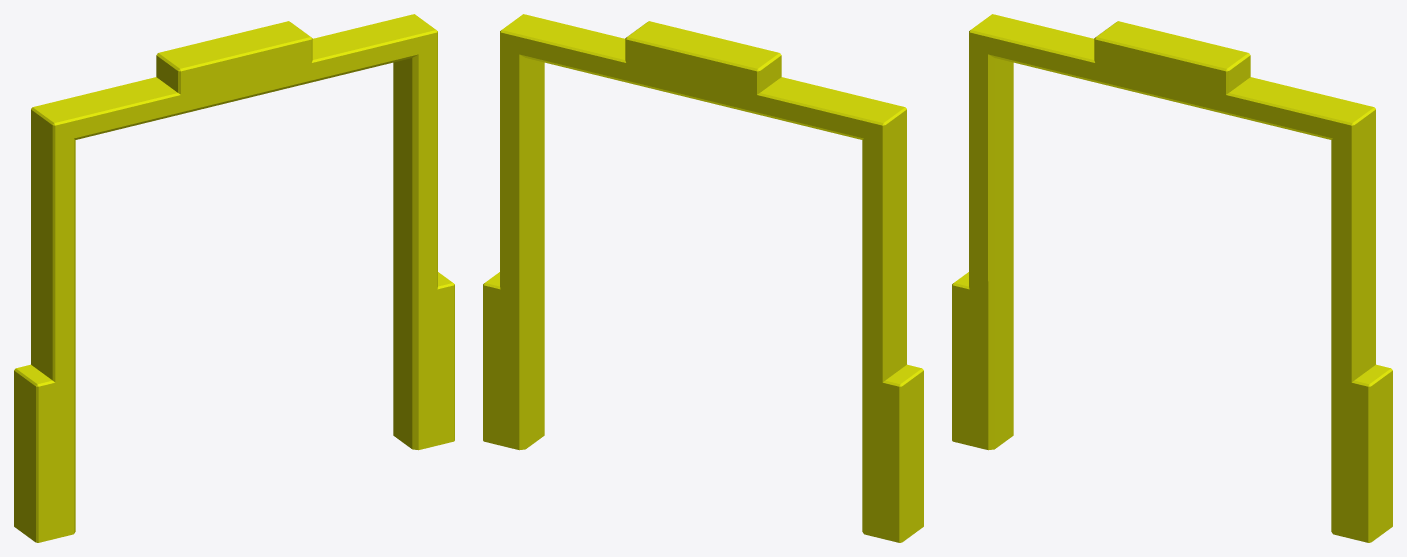
File: Encadrement_Porte_Grand.fbx
3 views of the same model, side by side, from view 1: azimuth 30°, elevation 25°; view 2: azimuth 150°, elevation 25°; view 3: azimuth 330°, elevation 25° (orthographic).
Visible parts, largest first — view 1: Encadrement_Porte_Grand; view 2: Encadrement_Porte_Grand; view 3: Encadrement_Porte_Grand.
Boxes of the visible parts, x1,y1,x2,y2 form: Encadrement_Porte_Grand: [14, 14, 454, 542]; Encadrement_Porte_Grand: [483, 14, 923, 542]; Encadrement_Porte_Grand: [952, 14, 1392, 542].
Size of the model in its own units: 224 by 224 by 22.
